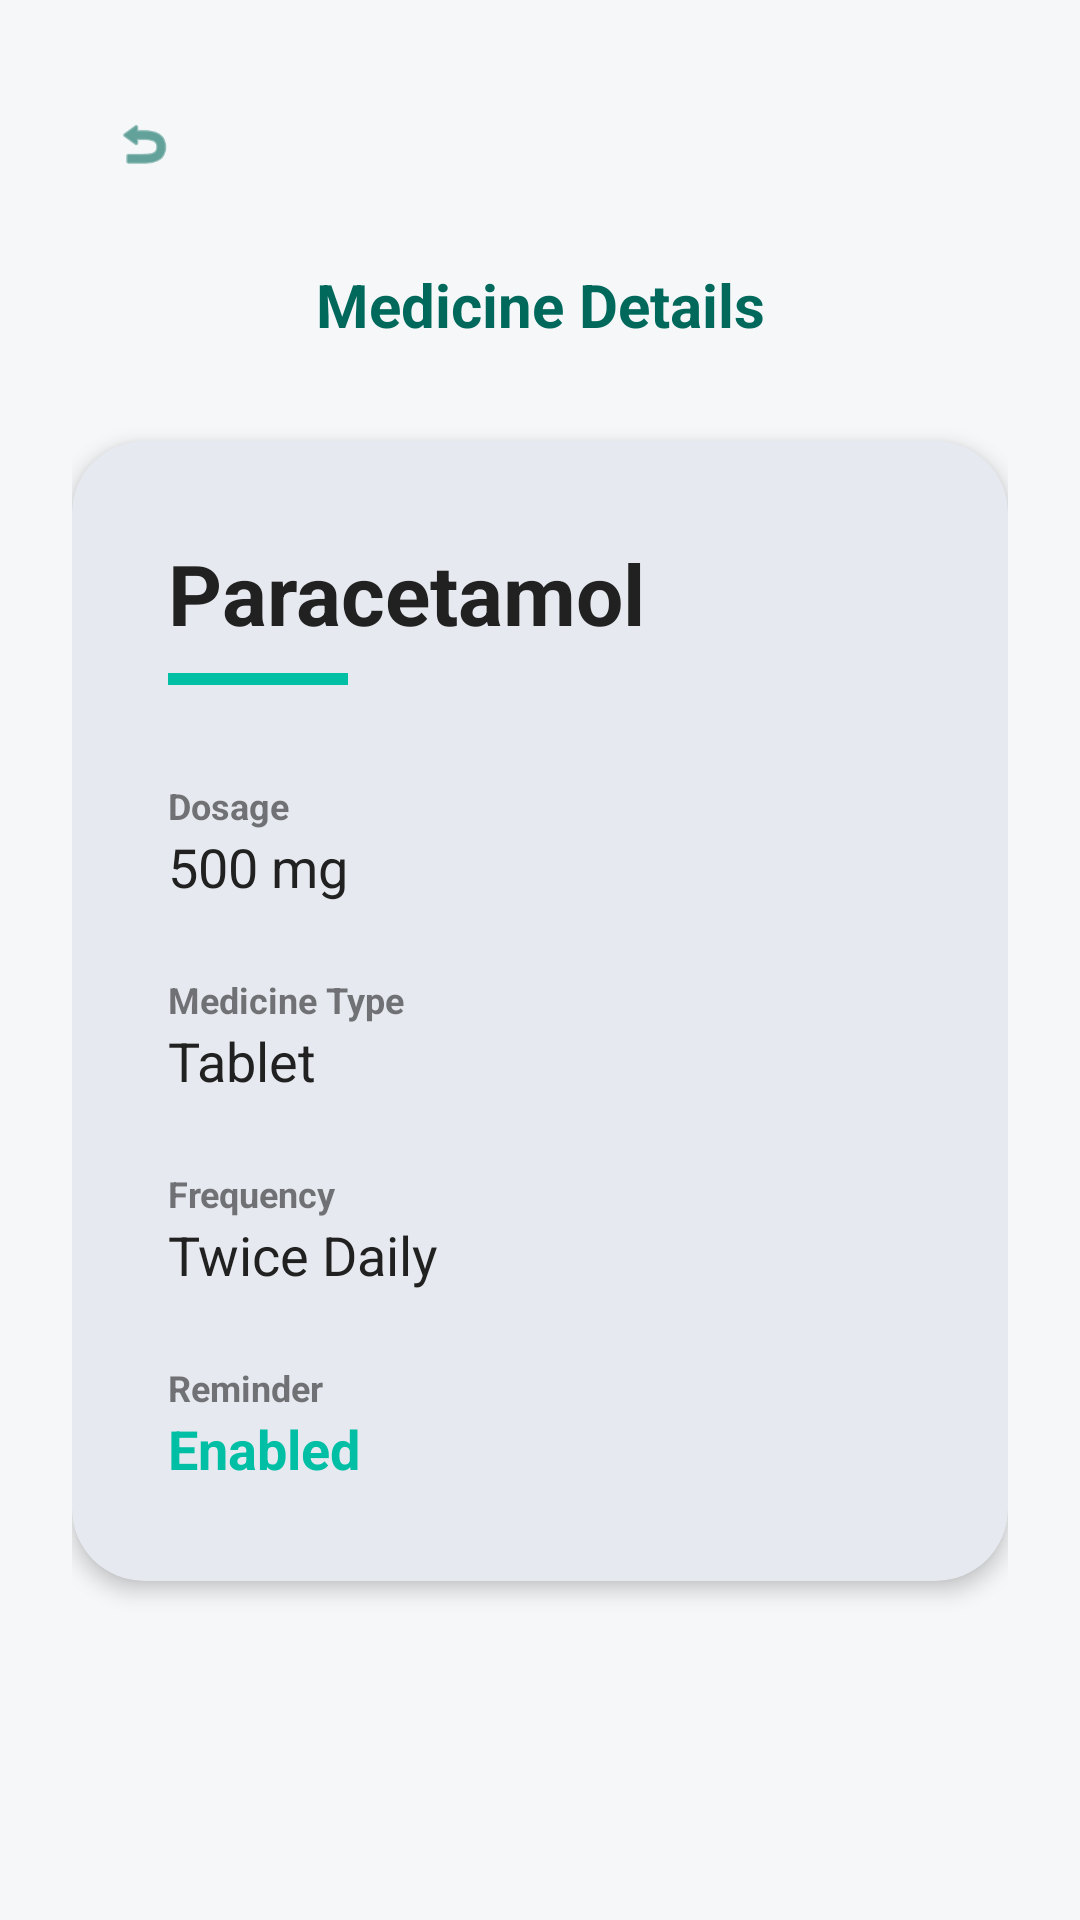

Screen size 1080px×1920px. Icon name, then its box in pixels as region(x1, y1, x2, y2):
revert: region(123, 125, 167, 164)
